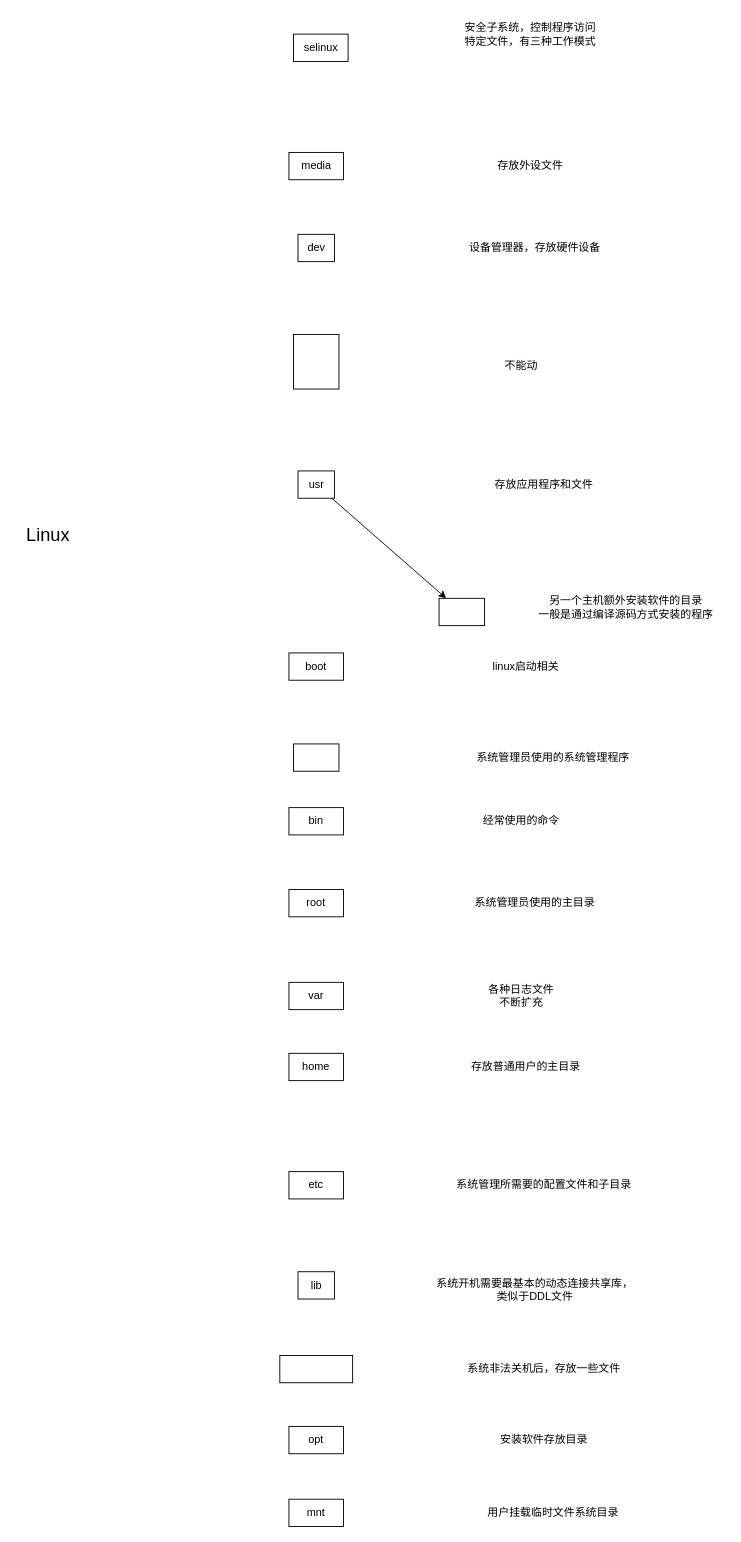
Image size: 741x1542. Some labels were removed from this diagram. Here are the shapes that lost their labels. From the top down, the centre of each, then its label:
At (x=316, y=361): "/proc /srv /sys".
At (x=461, y=611): "local".
At (x=316, y=757): "sbin".
At (x=316, y=1369): "lost+found".
